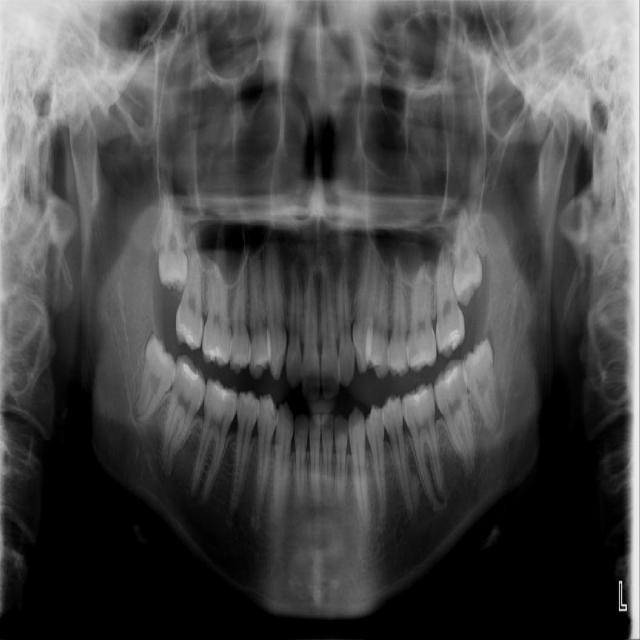Filling: (211, 380, 233, 406), (203, 342, 228, 362), (440, 364, 461, 387), (177, 326, 199, 347), (180, 362, 200, 385), (444, 328, 463, 349), (407, 389, 428, 406)
impacted tooth: (130, 335, 174, 424), (157, 195, 190, 291), (466, 339, 500, 432), (454, 205, 485, 303)
